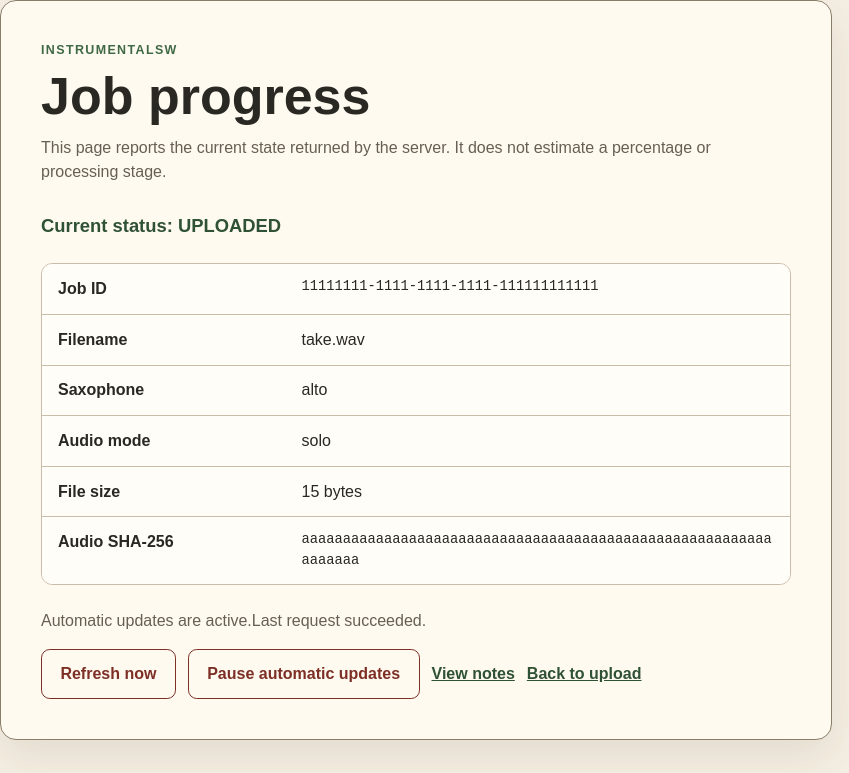
Test case: TranscriptionProgress polling lifecycle › pause cancels the next timer and resume performs an immediate request
The image size is (849, 773).
Expected: the text "Current status: UPLOADED" is shown, [41,215,281,236]
Click the button "Pause automatic updates": (304, 674) [188,649,420,699]
Wait 6000 ms
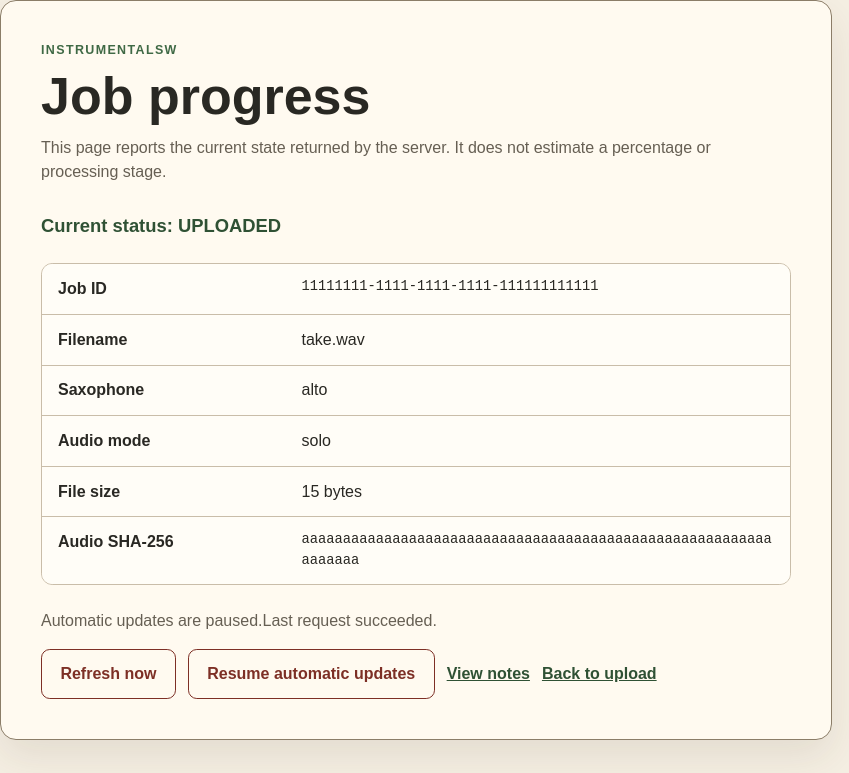
Now the text "Automatic updates are paused." is shown, box [41,612,262,629]
Click the button "Resume automatic updates": (311, 674) [188,649,435,699]
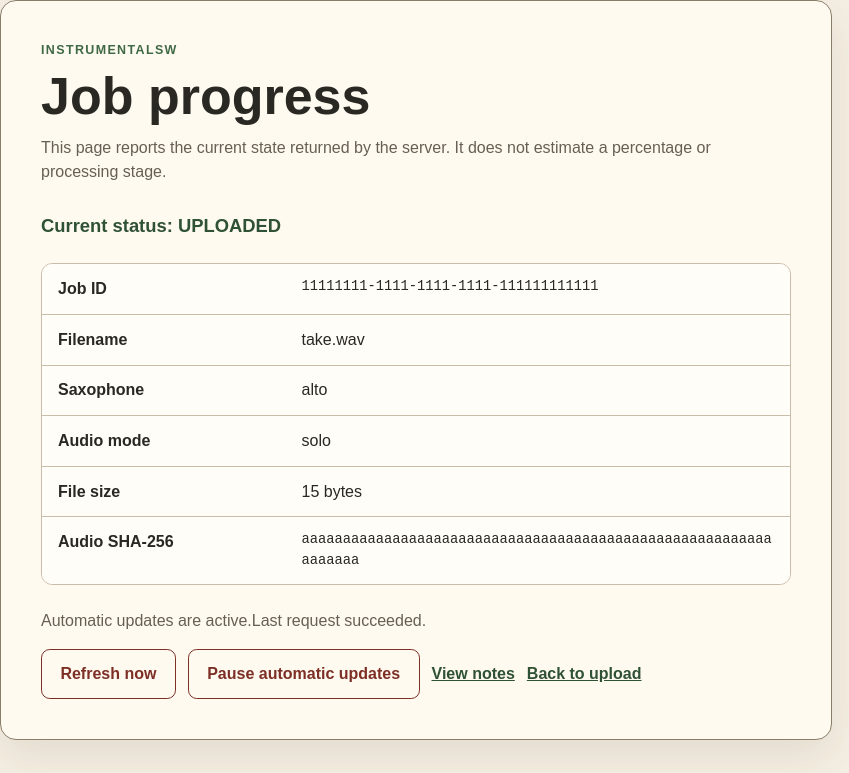
Now the text "Automatic updates are active." is shown, box [41,612,252,629]
